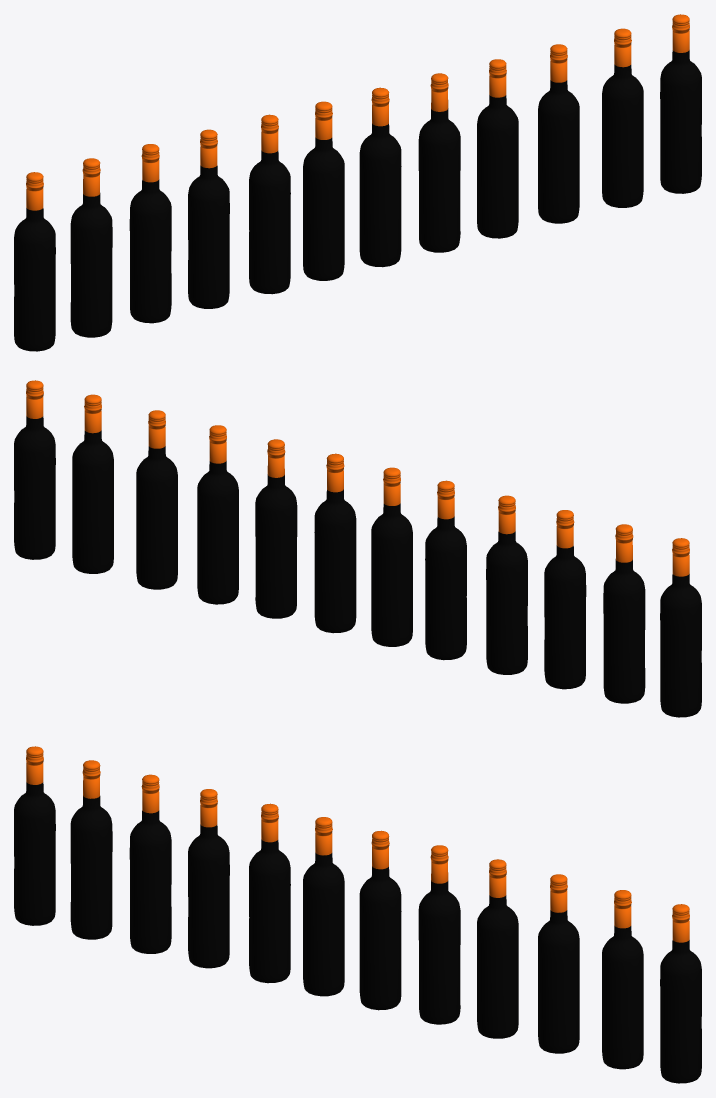
The model's file is Wines.fbx.
3 renders of one model, top to bottom at view 1: azimuth 30°, elevation 25°; view 2: azimuth 150°, elevation 25°; view 3: azimuth 330°, elevation 25°, orthographic.
Parts seen in each view (by area): view 1: Wines; view 2: Wines; view 3: Wines.
Boxes of the visible parts, x1,y1,x2,y2 form: Wines: (14,14,701,351); Wines: (14,380,701,717); Wines: (14,746,701,1083).
Size of the model in its own units: 9.13 by 2.18 by 0.4886.
